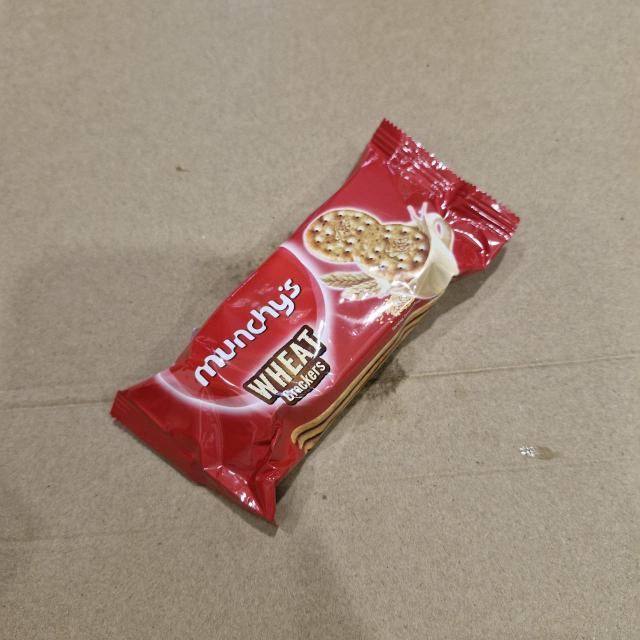plastic: (105, 112, 529, 530)
